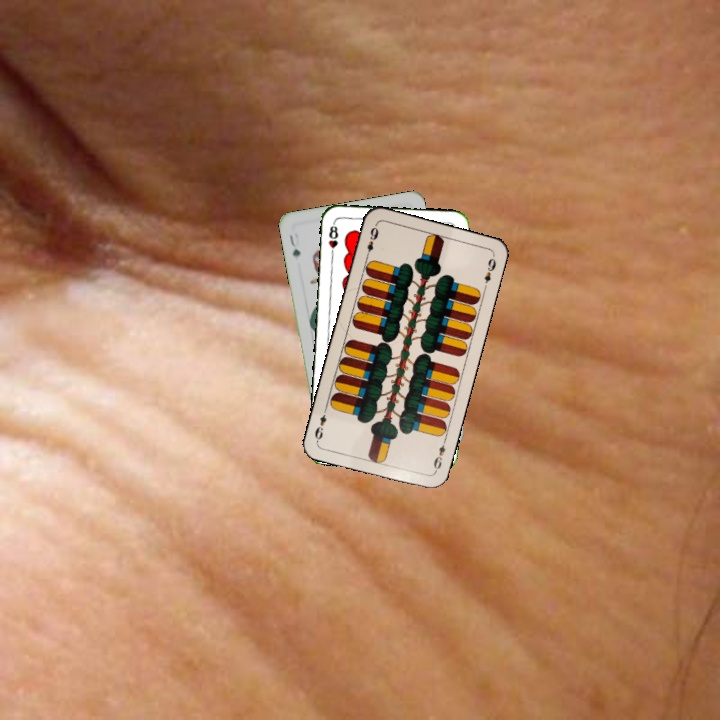E9: (429, 435, 449, 475), (362, 223, 381, 261)
GU: (285, 231, 303, 260)
H8: (325, 219, 340, 260)
